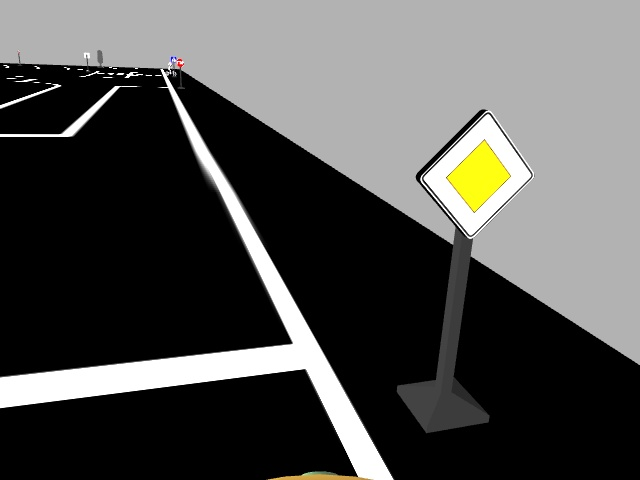Priority: (419, 109, 535, 238)
